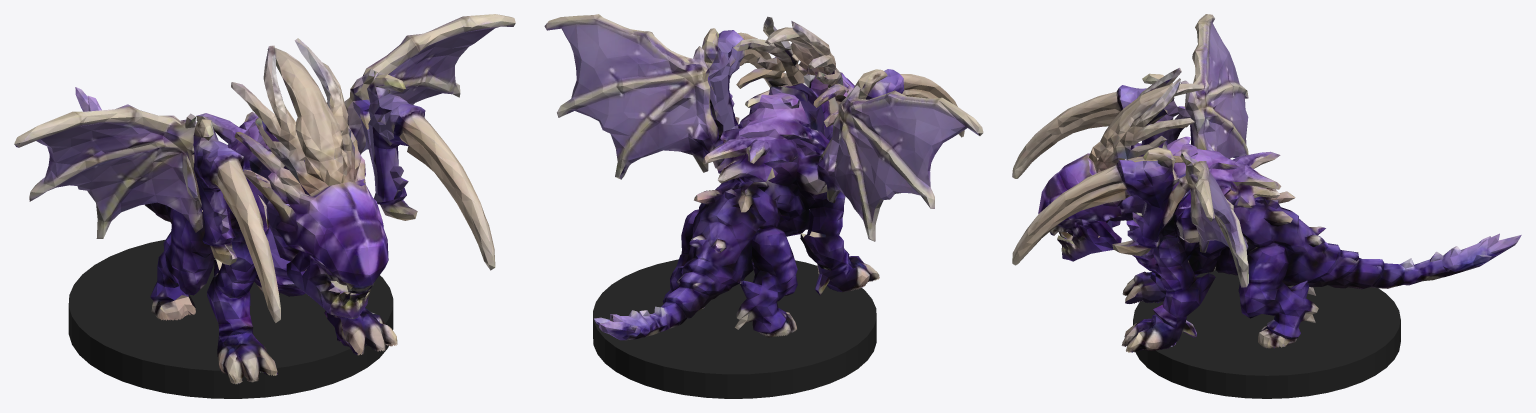
The model's file is kerrigan-swarm-raptor.glb.
3 renders of one model, left to right at view 1: azimuth 30°, elevation 25°; view 2: azimuth 150°, elevation 25°; view 3: azimuth 270°, elevation 25°, orthographic. The views are drawn at different scales.
Parts seen in each view (by area): view 1: figure, base; view 2: figure, base; view 3: figure, base.
Part boxes in pixels (x1,y1,x2,y2): figure: (14, 14, 515, 384); base: (68, 239, 393, 398); figure: (544, 14, 983, 340); base: (593, 259, 876, 398); figure: (1012, 14, 1521, 352); base: (1133, 270, 1400, 398).
Bounding box in the file's own units: 2.24 × 1.4 × 2.4.
Materials: 2 (1 with a texture image).
